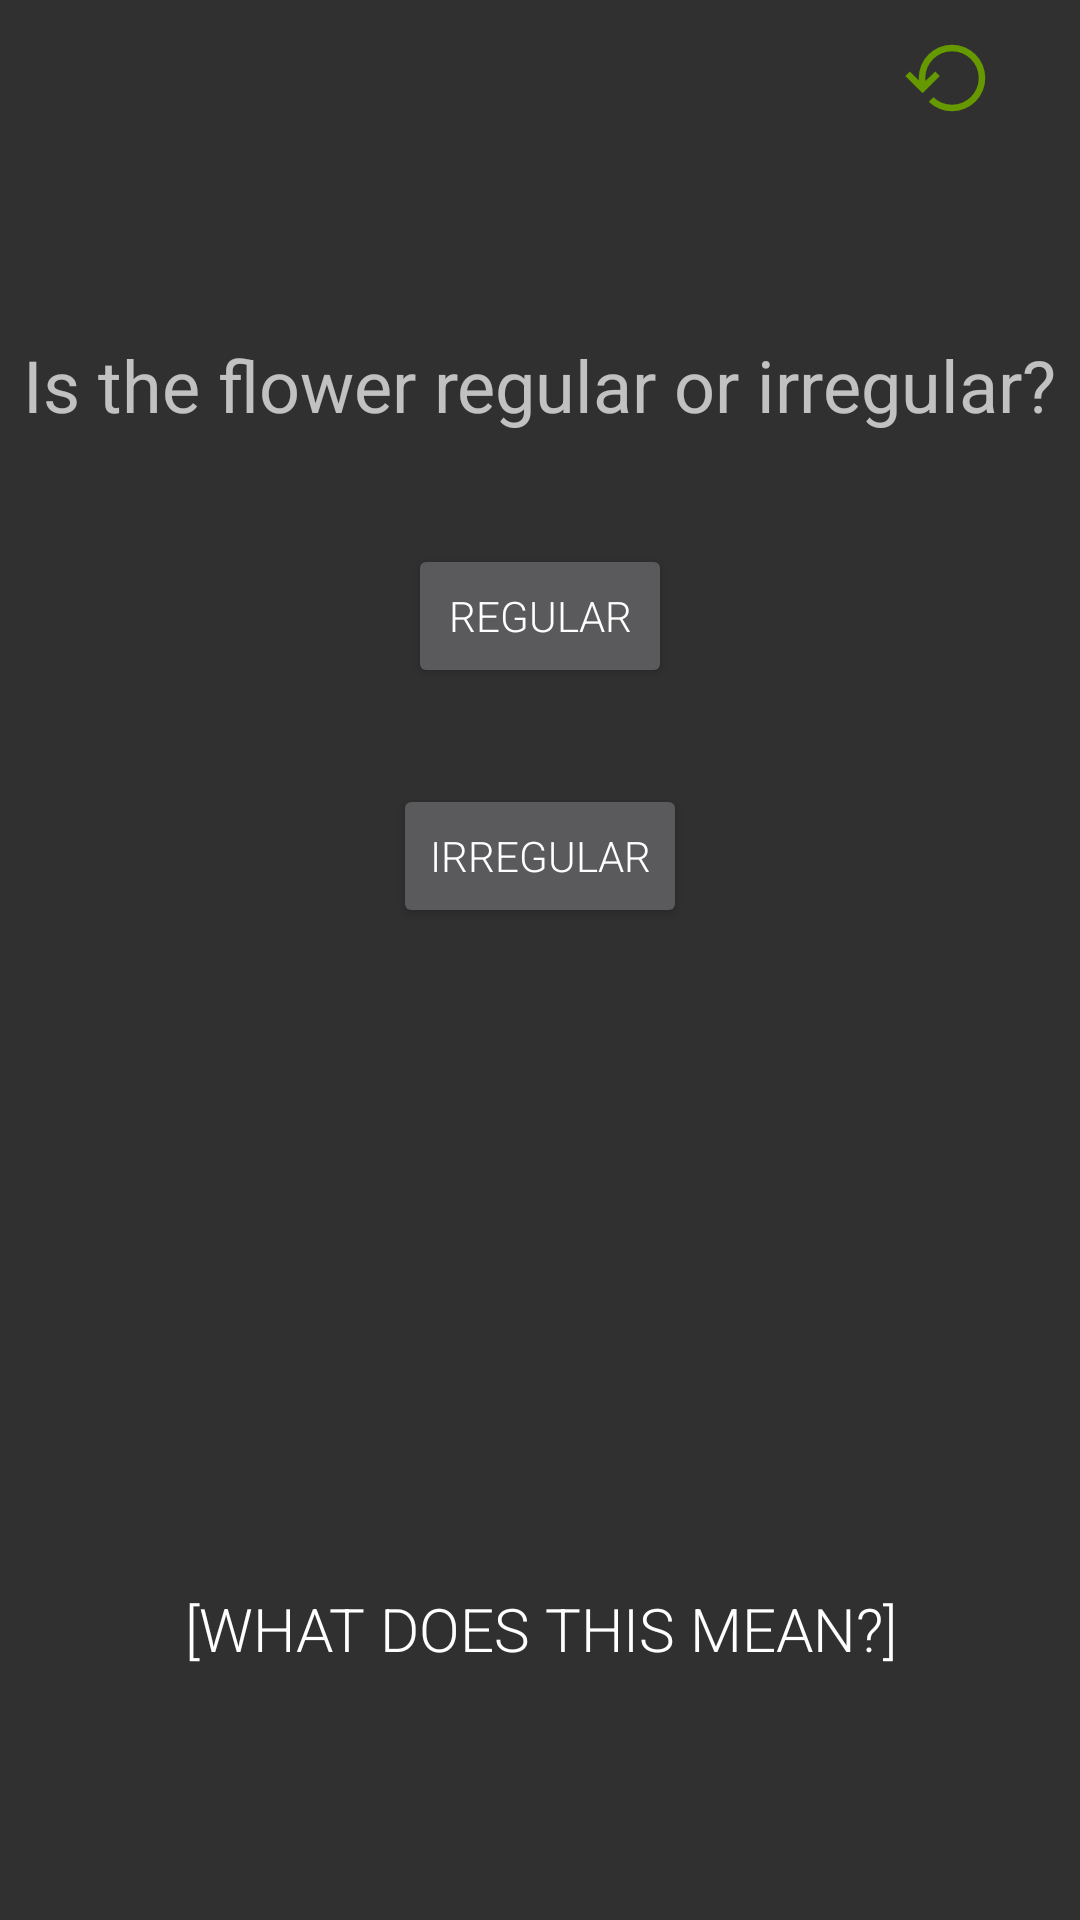

Screen size 1080px x 1920px. Icon name, then its box in pixels as [x1, y1, x2, y2]:
turn left: [905, 45, 985, 111]
